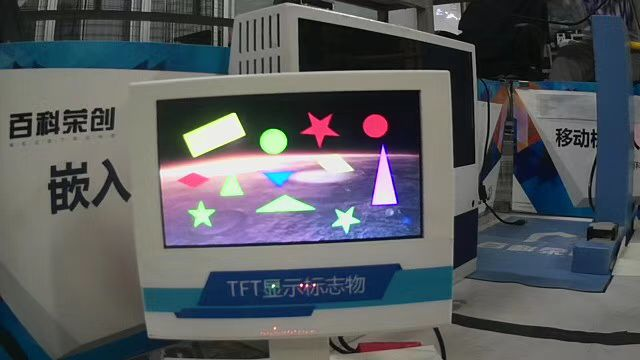graph: (153, 87, 427, 248)
